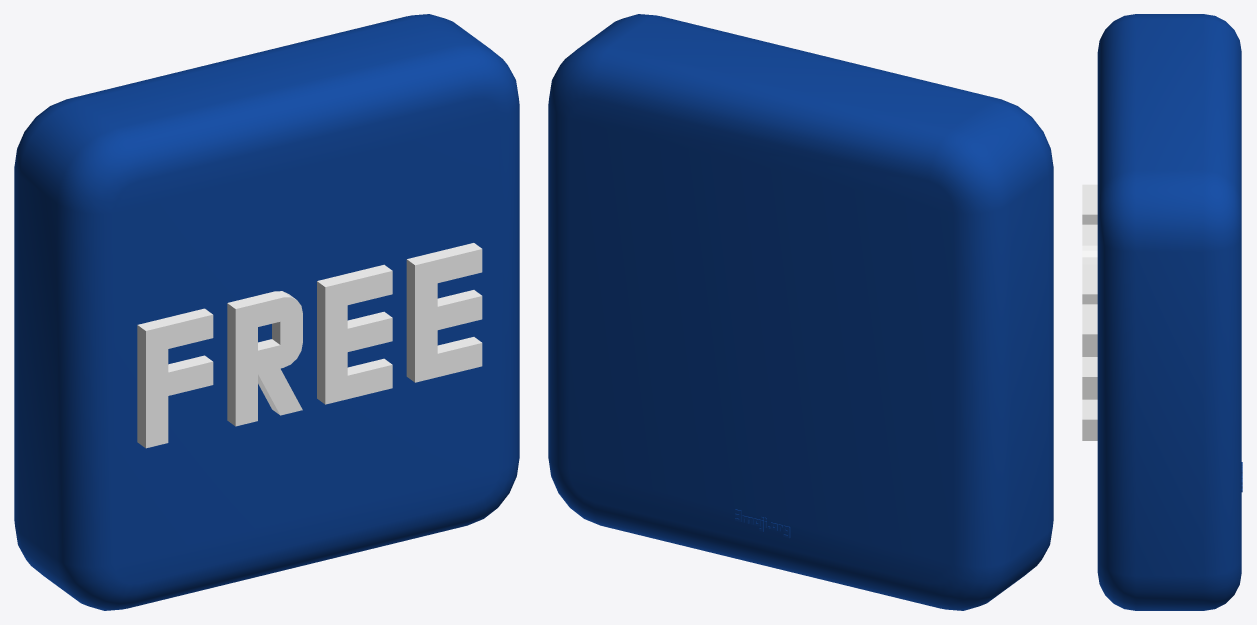
The model's file is free_button.fbx.
The picture shows the model from 3 angles, left to right: view 1: azimuth 30°, elevation 25°; view 2: azimuth 150°, elevation 25°; view 3: azimuth 270°, elevation 25°; orthographic projection. The views are drawn at different scales.
Parts seen in each view (by area): view 1: Cube.6621; view 2: Cube.6621; view 3: Cube.6621.
Part boxes in pixels (x1=…): Cube.6621: x1=14, y1=14, x2=519, y2=610; Cube.6621: x1=548, y1=14, x2=1053, y2=610; Cube.6621: x1=1082, y1=14, x2=1242, y2=610.
Size of the model in its own units: 220 by 220 by 73.37.
Materials: 1 (1 with a texture image).
